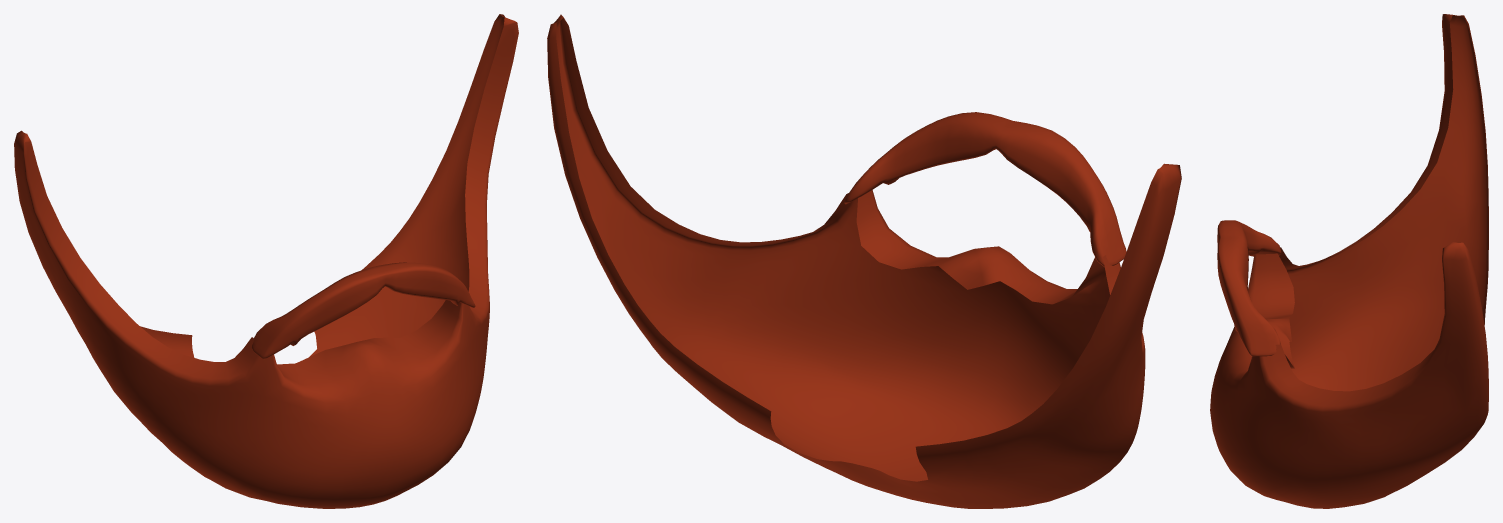
Rendered from facialhair_bigboi.glb.
3 renders of one model, left to right at view 1: azimuth 30°, elevation 25°; view 2: azimuth 150°, elevation 25°; view 3: azimuth 270°, elevation 25°, orthographic. The views are drawn at different scales.
Visible parts, largest first — view 1: bigboy; view 2: bigboy; view 3: bigboy.
Boxes of the visible parts, bbox=[...] form: bigboy: bbox=[14, 14, 518, 508]; bigboy: bbox=[547, 14, 1181, 508]; bigboy: bbox=[1210, 14, 1488, 508].
Size of the model in its own units: 0.3336 by 0.2333 by 0.167.
